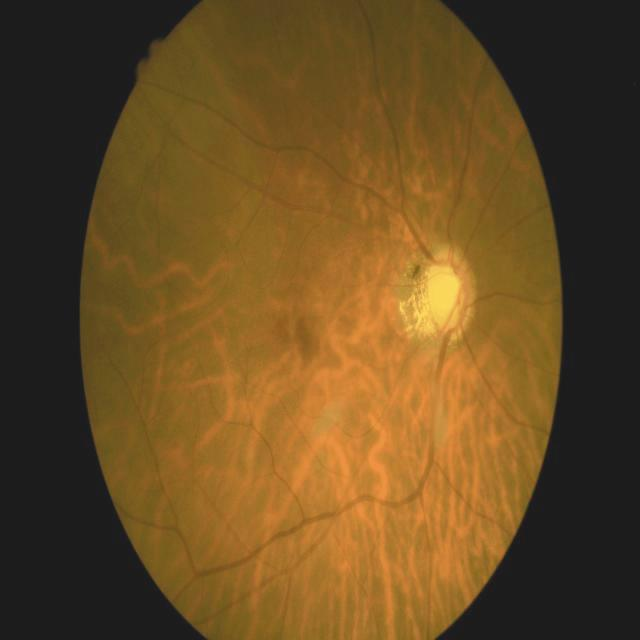cup: (427, 264, 465, 330)
disk: (422, 244, 473, 338)
